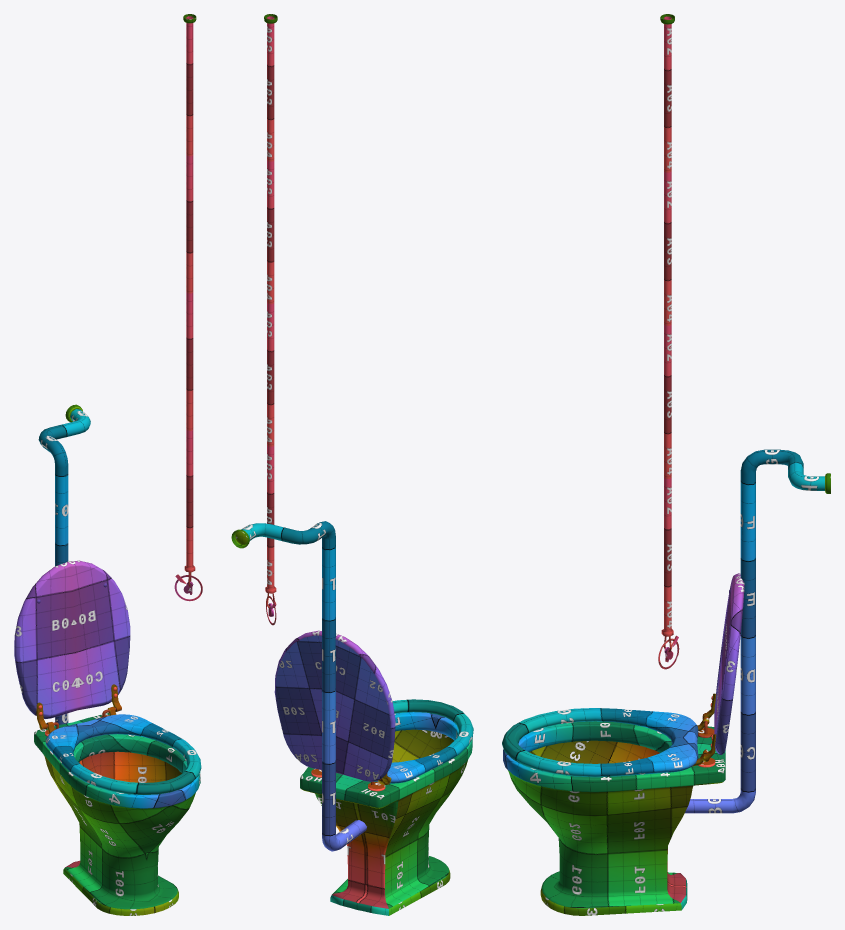
Rendered from Toilet2_gameasset.fbx.
The picture shows the model from 3 angles, left to right: view 1: azimuth 30°, elevation 25°; view 2: azimuth 150°, elevation 25°; view 3: azimuth 270°, elevation 25°; orthographic projection. The views are drawn at different scales.
Visible parts, largest first — view 1: polySurface47, polySurface38, polySurface43; view 2: polySurface47, polySurface43, polySurface38; view 3: polySurface47, polySurface43, polySurface38.
Boxes of the visible parts, x1,y1,x2,y2 form: polySurface47: [14, 560, 201, 915]; polySurface38: [174, 16, 202, 601]; polySurface43: [38, 409, 90, 725]; polySurface47: [274, 630, 473, 915]; polySurface43: [241, 521, 366, 851]; polySurface38: [265, 16, 276, 625]; polySurface47: [502, 573, 744, 915]; polySurface43: [685, 449, 824, 813]; polySurface38: [658, 16, 679, 669].
Size of the model in its own units: 77.6 by 390 by 125.
